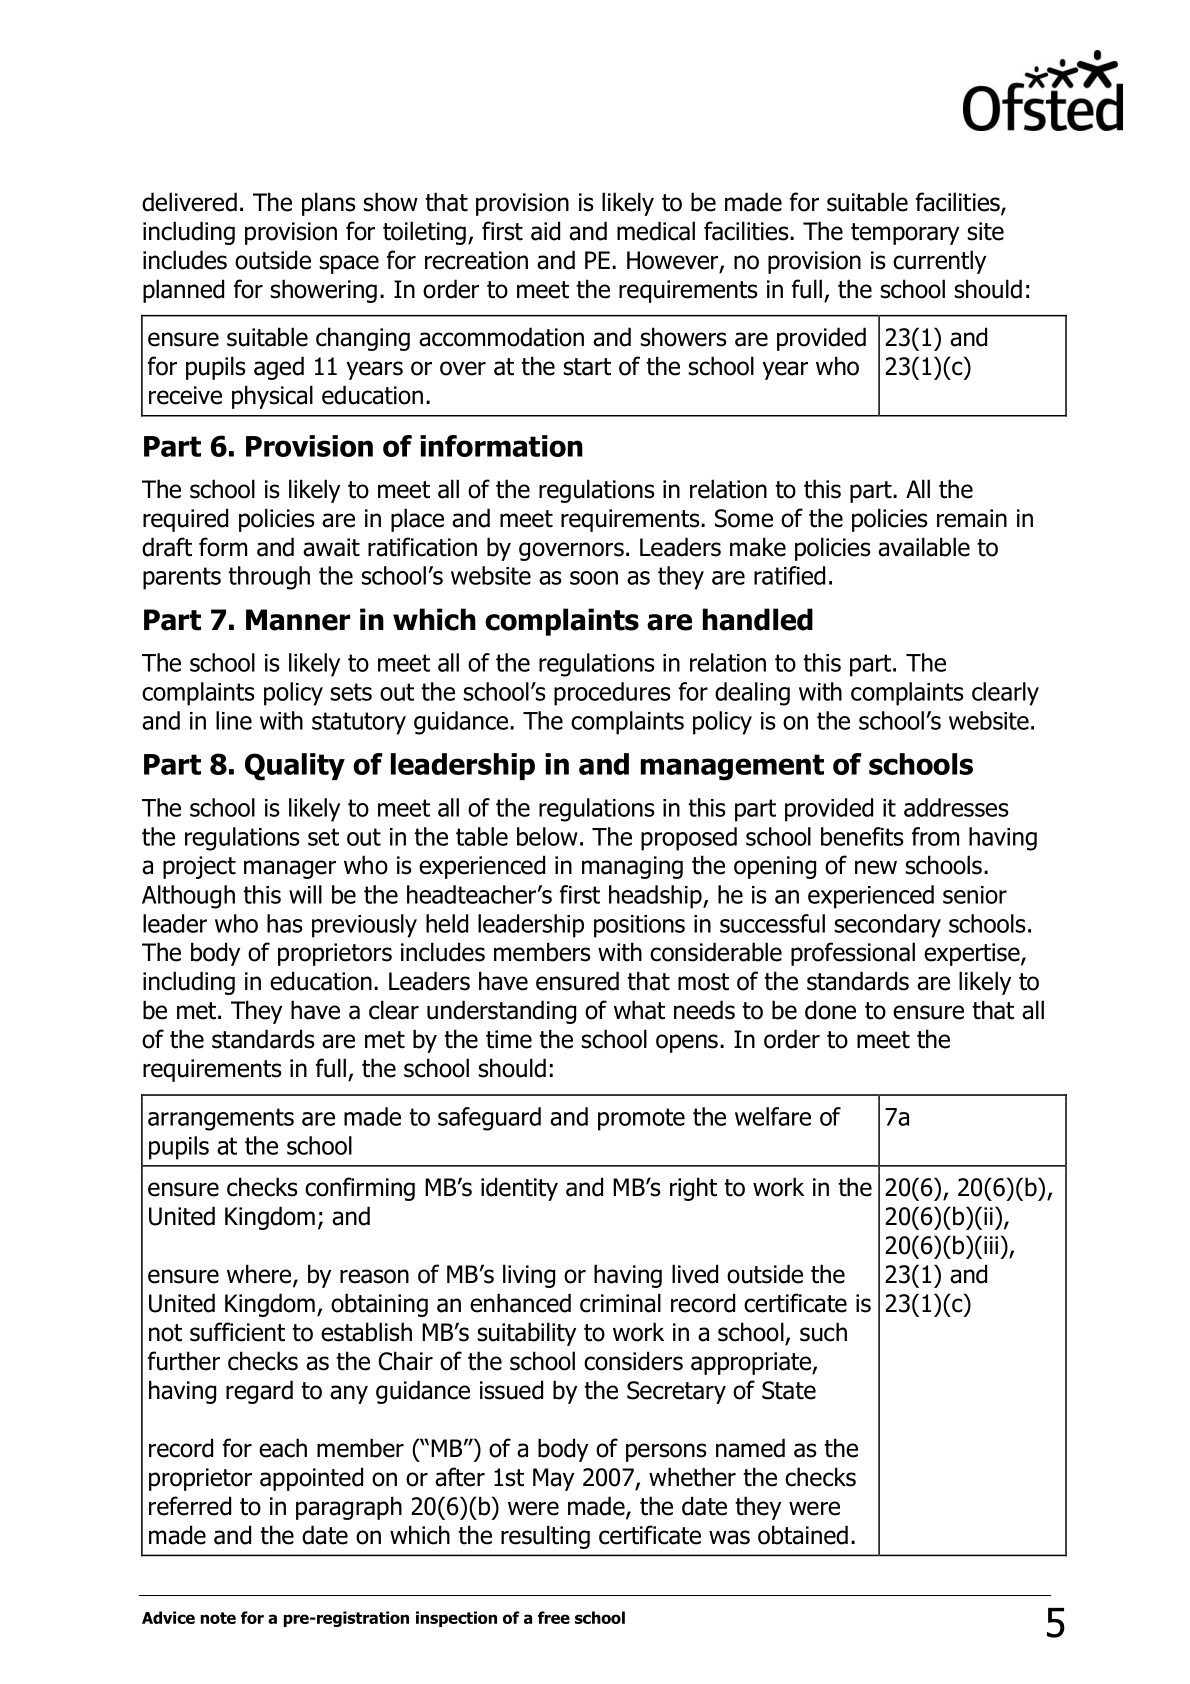full_lined: (140, 1092, 1068, 1557), (140, 314, 1068, 418)
